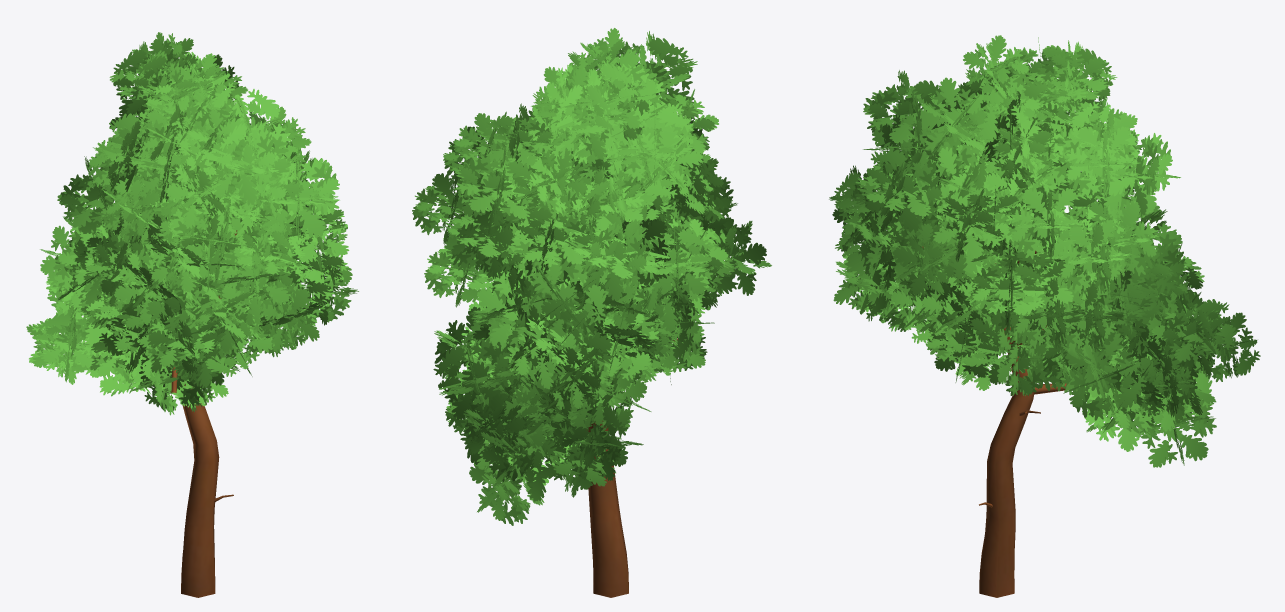
The model's file is st-oak-2.glb.
3 views of the same model, side by side, from view 1: azimuth 30°, elevation 25°; view 2: azimuth 150°, elevation 25°; view 3: azimuth 270°, elevation 25° (orthographic). The views are drawn at different scales.
Visible parts, largest first — view 1: STOak2; view 2: STOak2; view 3: STOak2.
Boxes of the visible parts, x1,y1,x2,y2 form: STOak2: (26, 32, 358, 597); STOak2: (412, 28, 771, 597); STOak2: (829, 35, 1260, 597).
Size of the model in its own units: 10.58 by 20.28 by 14.93.
Materials: 2 (2 with a texture image).
